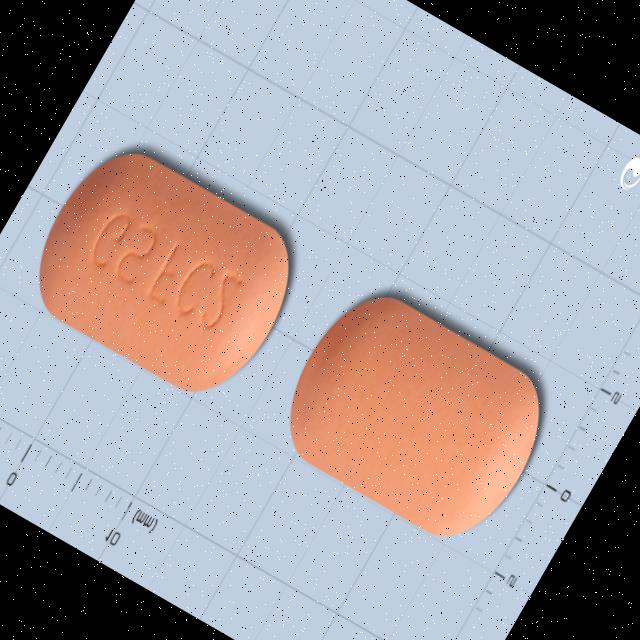Kivexa: (11, 130, 319, 417), (262, 275, 568, 561)
